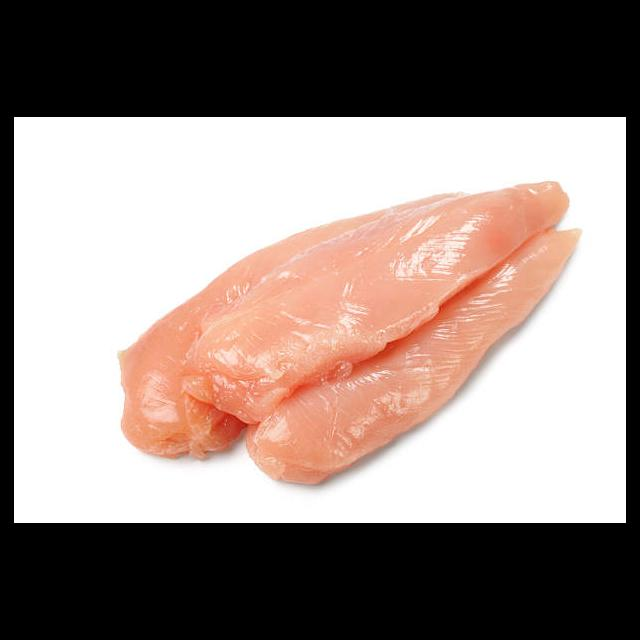chicken: (117, 181, 582, 485)
